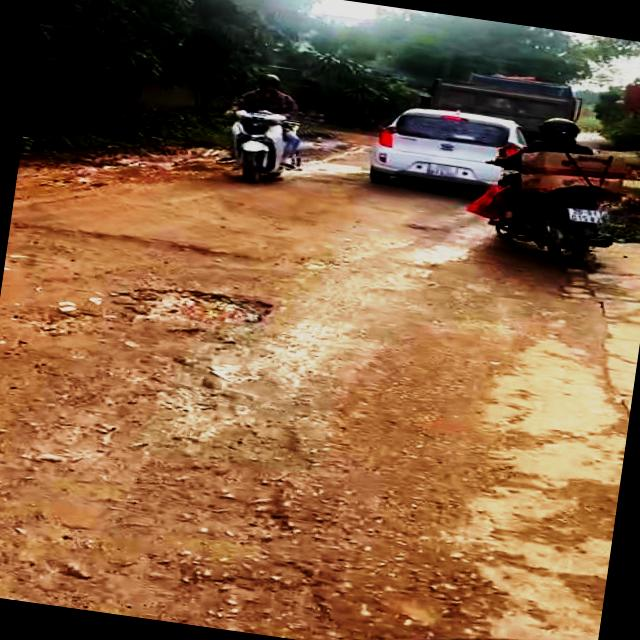pothole: (0, 261, 281, 393), (2, 212, 314, 322)
